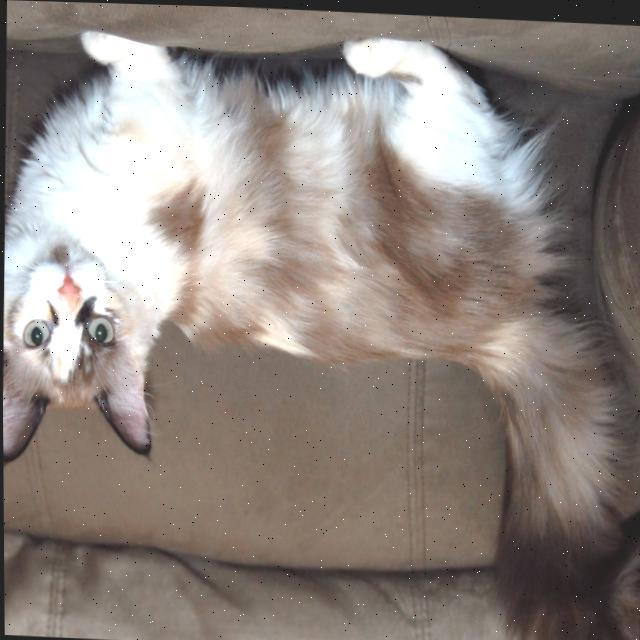Munchkin: (0, 9, 640, 640)
